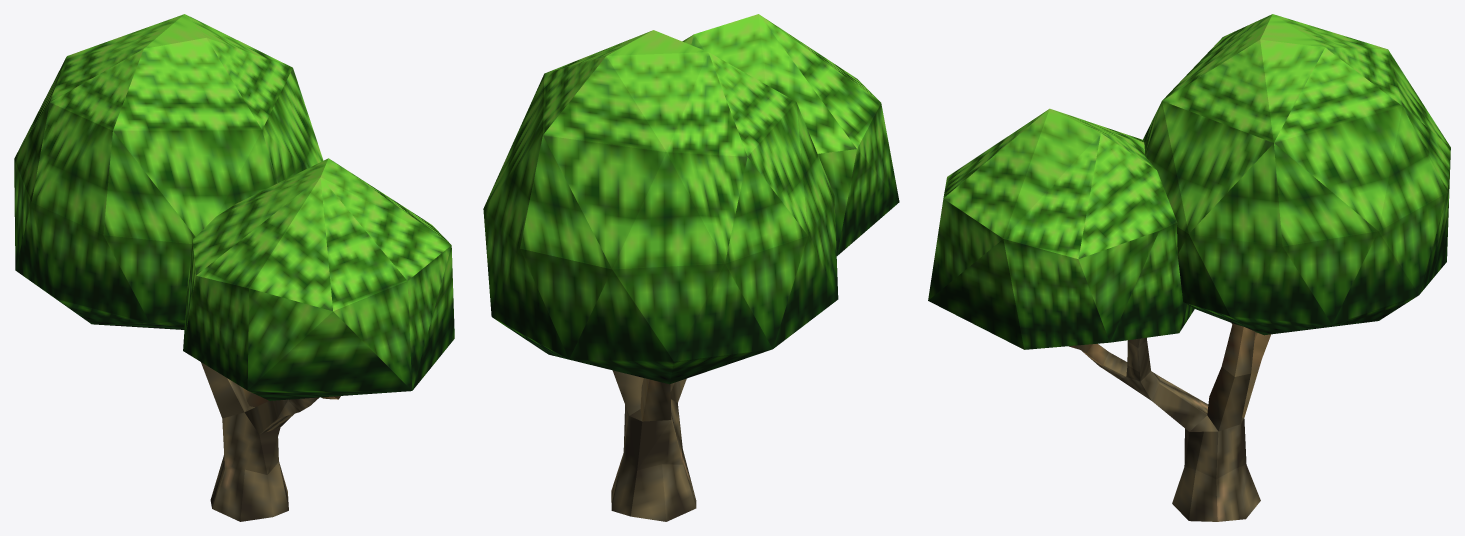
File: Poly_Tree_02_B.obj
The picture shows the model from 3 angles, left to right: view 1: azimuth 30°, elevation 25°; view 2: azimuth 150°, elevation 25°; view 3: azimuth 270°, elevation 25°; orthographic projection. The views are drawn at different scales.
Visible parts, largest first — view 1: Icosphere.001, Icosphere.002, Plane; view 2: Icosphere.001, Icosphere.002, Plane; view 3: Icosphere.001, Icosphere.002, Plane.
Boxes of the visible parts, x1,y1,x2,y2 form: Icosphere.001: [14, 14, 323, 329]; Icosphere.002: [183, 158, 454, 400]; Plane: [201, 362, 340, 521]; Icosphere.001: [483, 30, 838, 384]; Icosphere.002: [682, 14, 899, 255]; Plane: [611, 370, 696, 521]; Icosphere.001: [1143, 14, 1450, 335]; Icosphere.002: [928, 108, 1194, 349]; Plane: [1069, 323, 1270, 521].
Size of the model in its own units: 2.64 by 3.92 by 4.05.
1 material, 1 textured.
